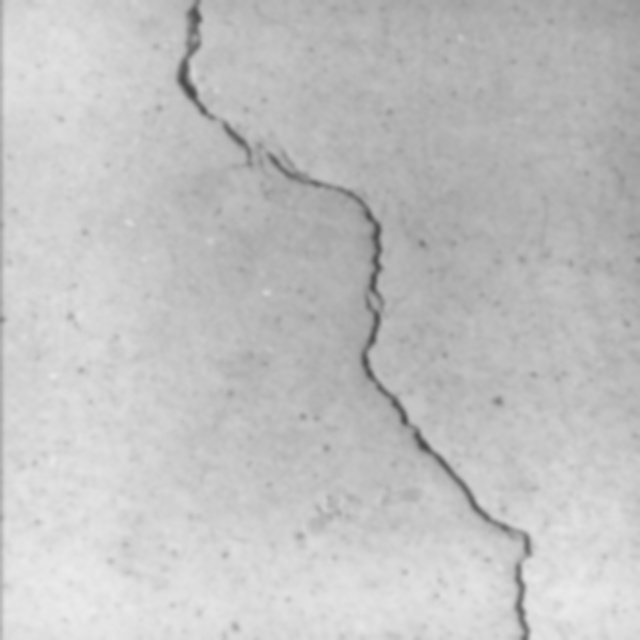SurfaceCrack: (86, 0, 599, 639)
